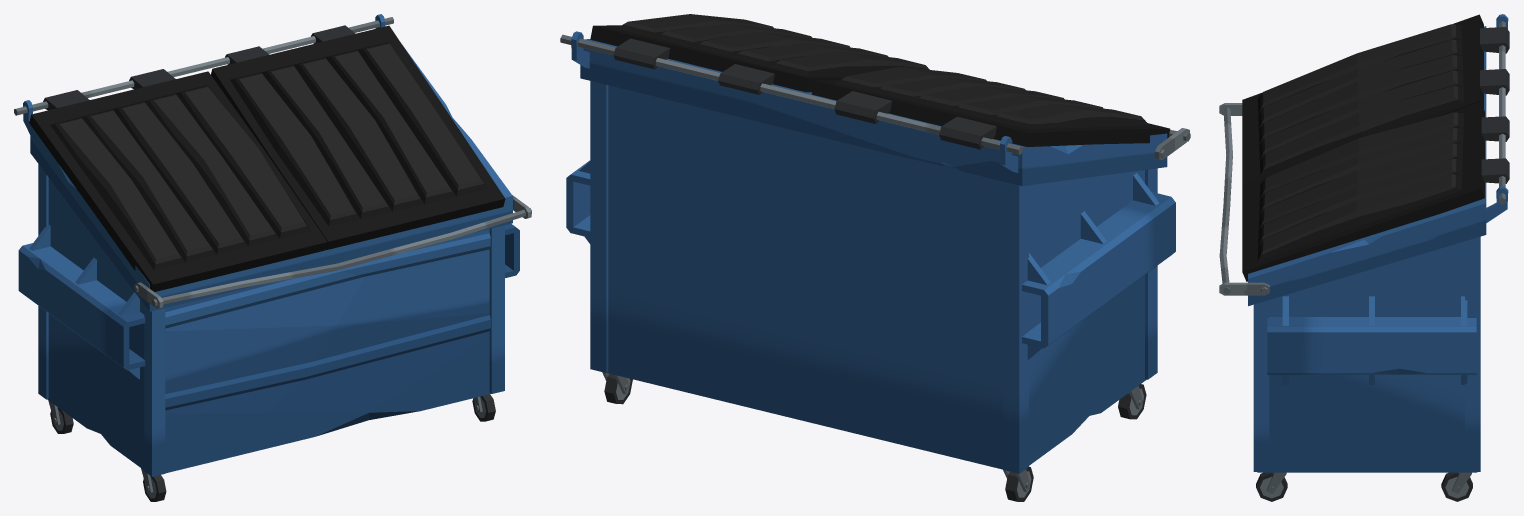
Rendered from SM_Prop_Dumpster_01.fbx.
3 renders of one model, left to right at view 1: azimuth 30°, elevation 25°; view 2: azimuth 150°, elevation 25°; view 3: azimuth 270°, elevation 25°, orthographic. The views are drawn at different scales.
Parts seen in each view (by area): view 1: SM_Prop_Dumpster_01; view 2: SM_Prop_Dumpster_01; view 3: SM_Prop_Dumpster_01.
Part boxes in pixels (bbox=[...]): SM_Prop_Dumpster_01: bbox=[14, 14, 531, 501]; SM_Prop_Dumpster_01: bbox=[560, 14, 1190, 501]; SM_Prop_Dumpster_01: bbox=[1219, 14, 1509, 501].
Bounding box in the file's own units: 240 × 184 × 152.
